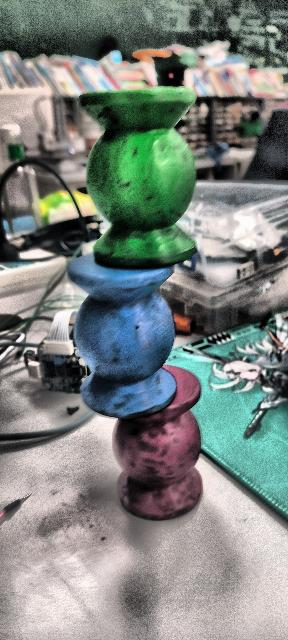blue: (66, 251, 178, 419)
green: (67, 90, 198, 277)
red: (105, 363, 206, 518)
